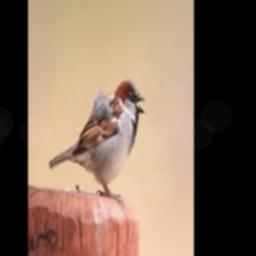Sparrow: (49, 77, 146, 205)
